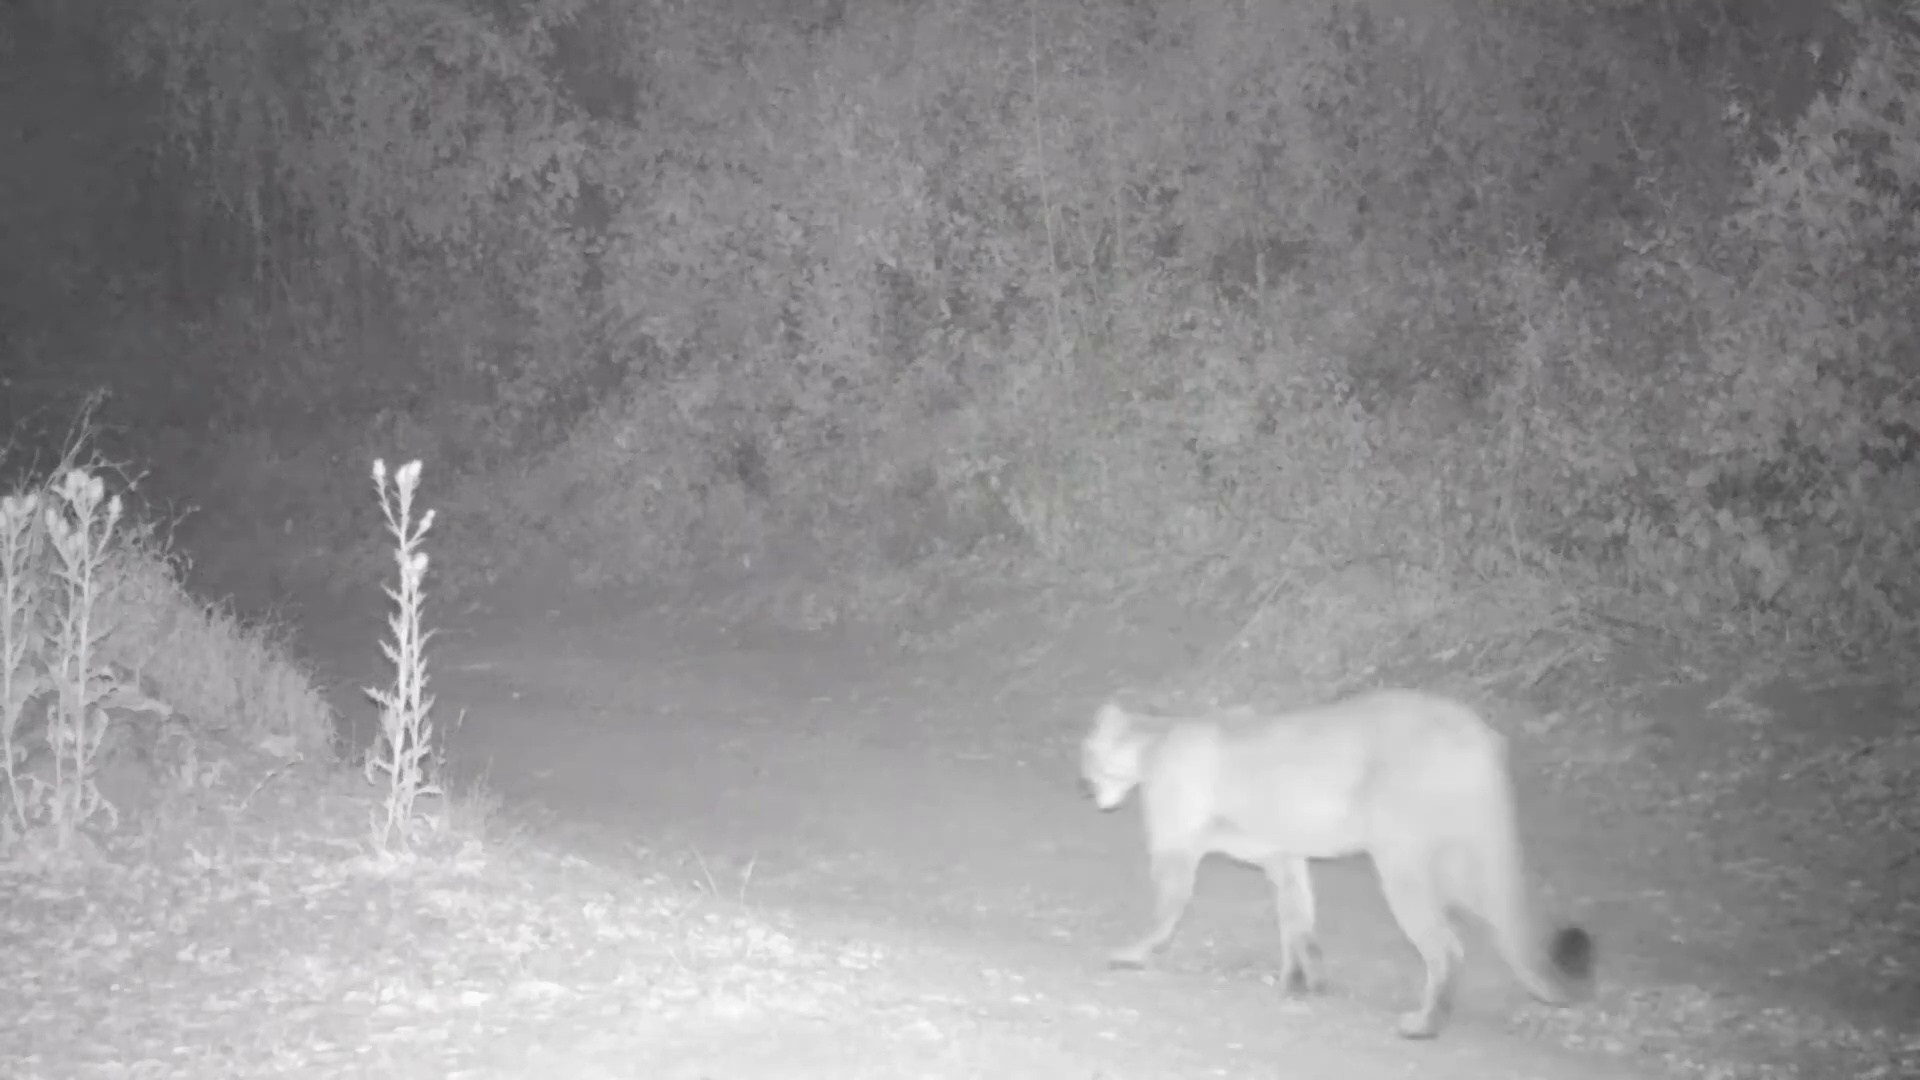Lion: (1077, 684, 1596, 1042)
